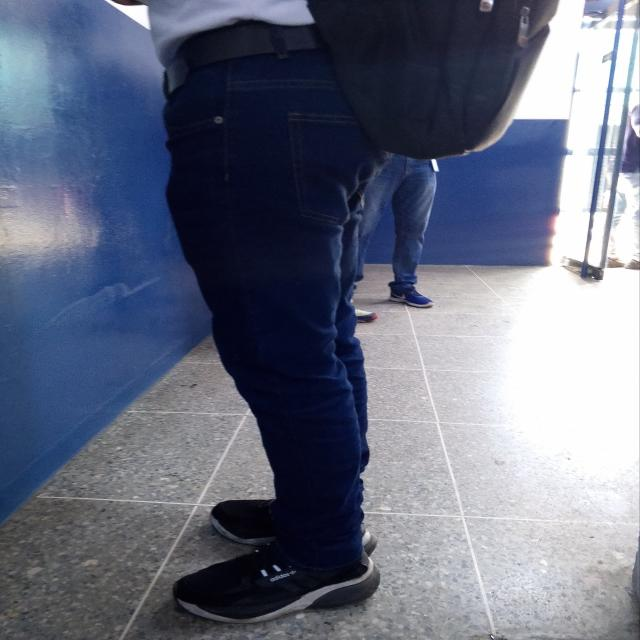pantalon_oscuro: (163, 49, 391, 568), (340, 152, 439, 297)
